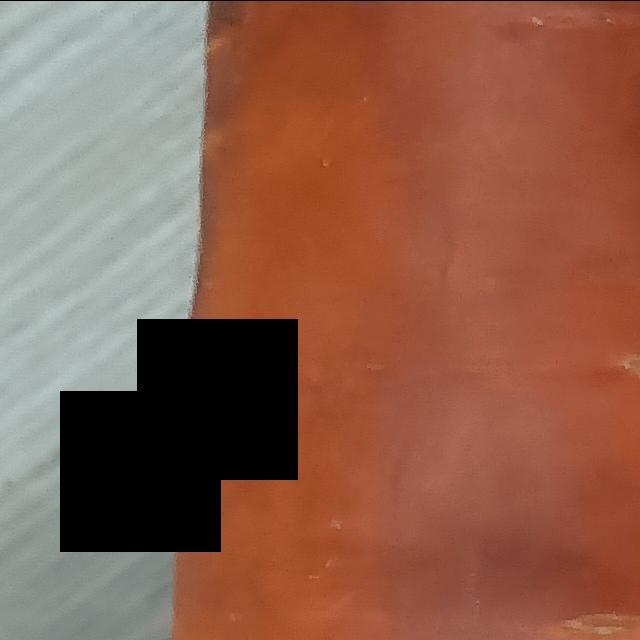carrot: (131, 1, 640, 640)
